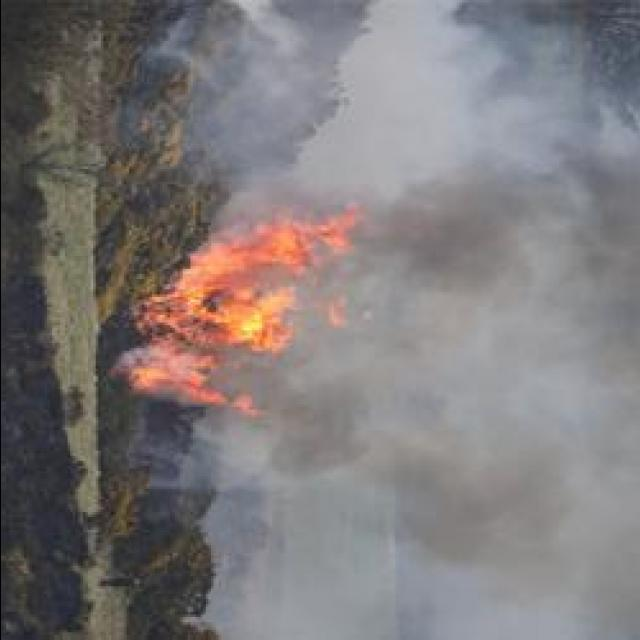fire: (220, 231, 298, 276), (226, 300, 267, 348)
smoke: (376, 156, 550, 308), (546, 127, 634, 405), (368, 1, 484, 185), (503, 490, 640, 640), (390, 433, 518, 579), (384, 332, 510, 424), (262, 384, 378, 478), (218, 577, 380, 640), (194, 426, 272, 491), (231, 0, 301, 44)
